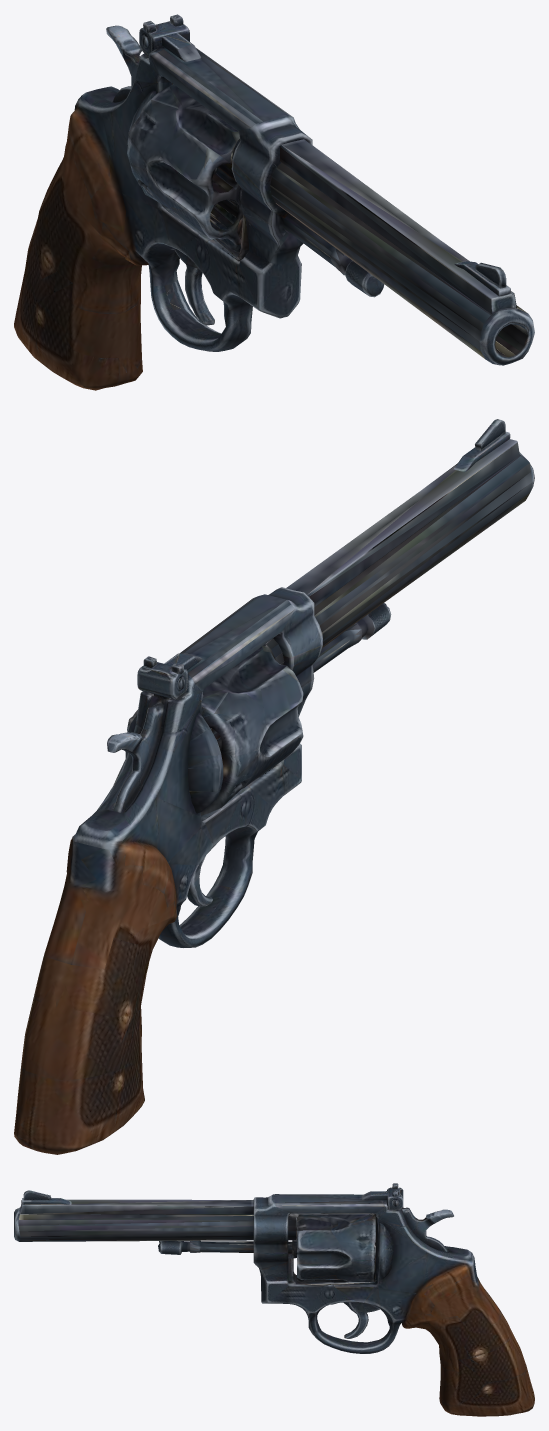
Rendered from revolver.glb.
The picture shows the model from 3 angles, top to bottom: view 1: azimuth 30°, elevation 25°; view 2: azimuth 150°, elevation 25°; view 3: azimuth 270°, elevation 25°; orthographic projection. The views are drawn at different scales.
Parts seen in each view (by area): view 1: w_revolver; view 2: w_revolver; view 3: w_revolver.
Part boxes in pixels (<box>): w_revolver: <box>14,14,534,390</box>; w_revolver: <box>14,419,534,1154</box>; w_revolver: <box>14,1183,534,1416</box>.
Bounding box in the file's own units: 0.0566 × 0.1981 × 0.42.
Materials: 1 (1 with a texture image).
